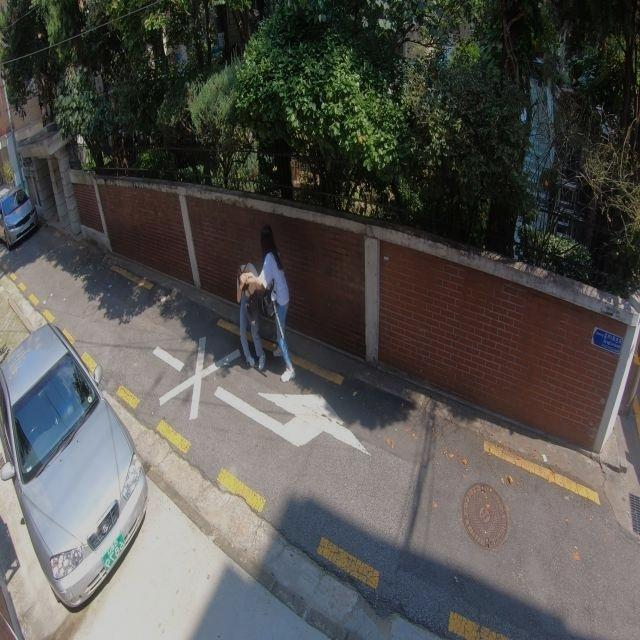fight: (230, 228, 299, 382)
